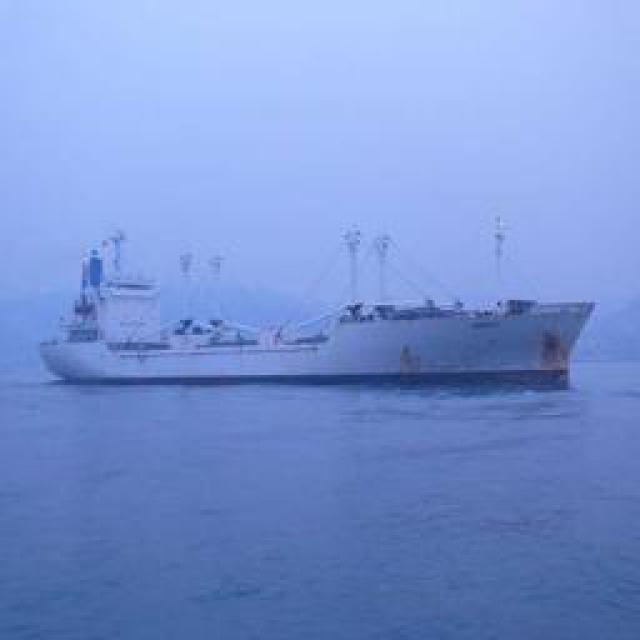Ship: (34, 254, 599, 389)
